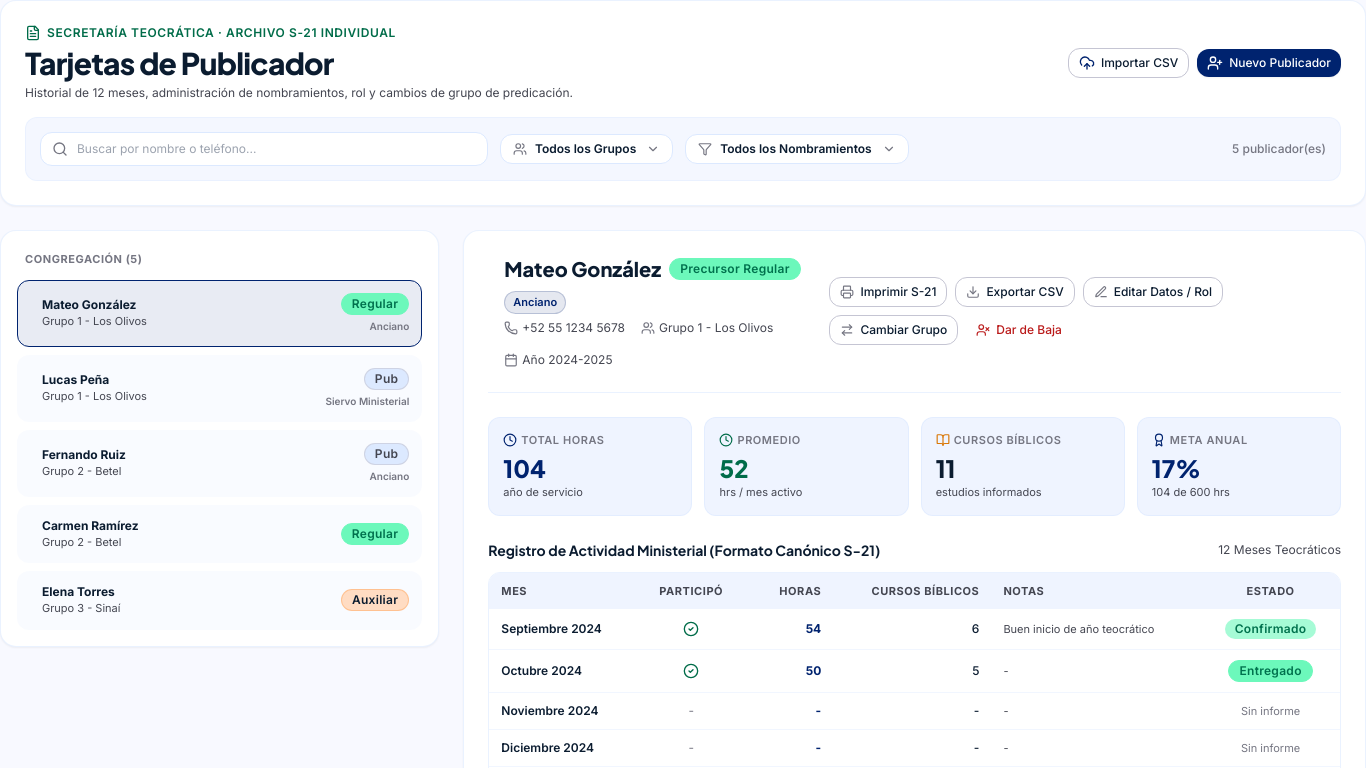
Test: PublisherCardsPage › permite buscar y seleccionar un publicador diferente
In the field named "buscar publicador por nombre": (264, 149) x1=40 y1=132 x2=488 y2=166, type "Lucas"
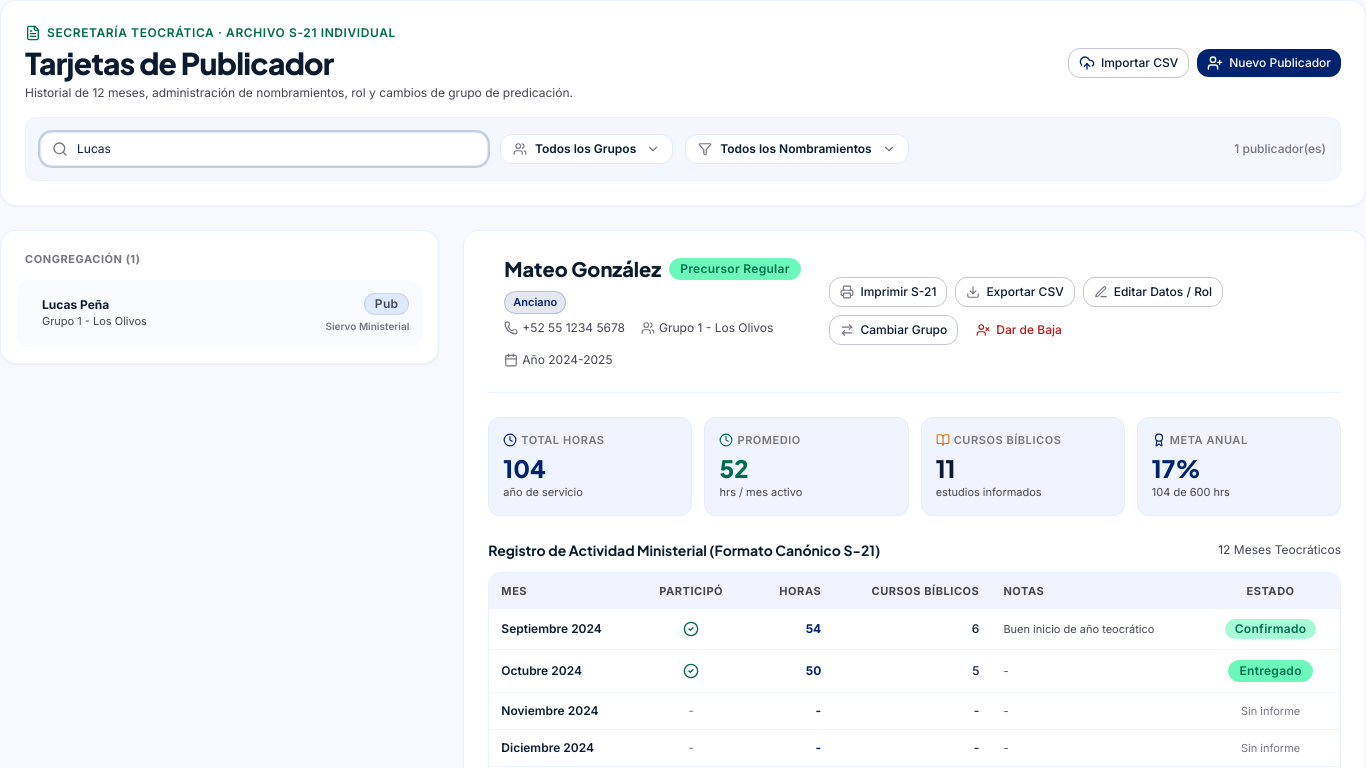
Expected: the text "Lucas Peña" is shown, x1=42 y1=297 x2=109 y2=312
Now the button "Elena Torres" is gone
